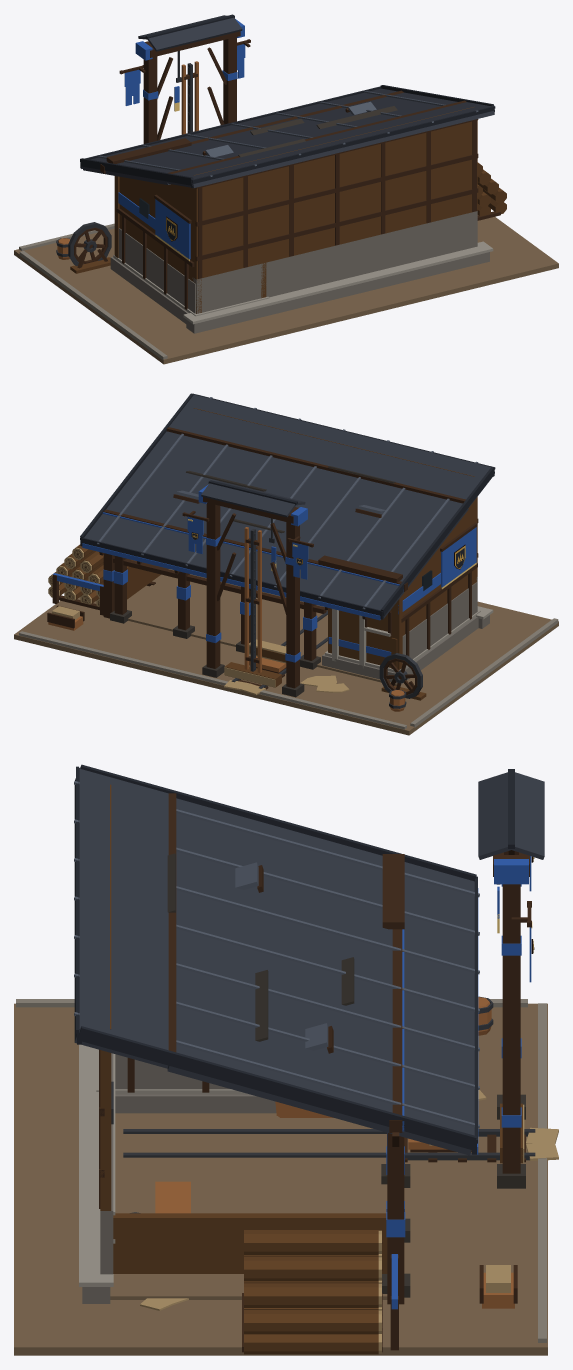
File: 伐木场_手游_中.glb
The picture shows the model from 3 angles, top to bottom: view 1: azimuth 30°, elevation 25°; view 2: azimuth 150°, elevation 25°; view 3: azimuth 270°, elevation 25°; orthographic projection. The views are drawn at different scales.
Visible parts, largest first — view 1: LM-主体, LM-team; view 2: LM-主体, LM-team; view 3: LM-主体, LM-team.
Boxes of the visible parts, left/top/right/bottom form: LM-主体: left=14, top=14, right=558, bottom=364; LM-team: left=118, top=19, right=245, bottom=259; LM-主体: left=14, top=393, right=558, bottom=735; LM-team: left=53, top=484, right=476, bottom=662; LM-主体: left=14, top=764, right=558, bottom=1355; LM-team: left=386, top=856, right=531, bottom=1309.
Bounding box in the file's own units: 16.81 × 7.72 × 10.92.
Materials: 4 (2 with a texture image).
